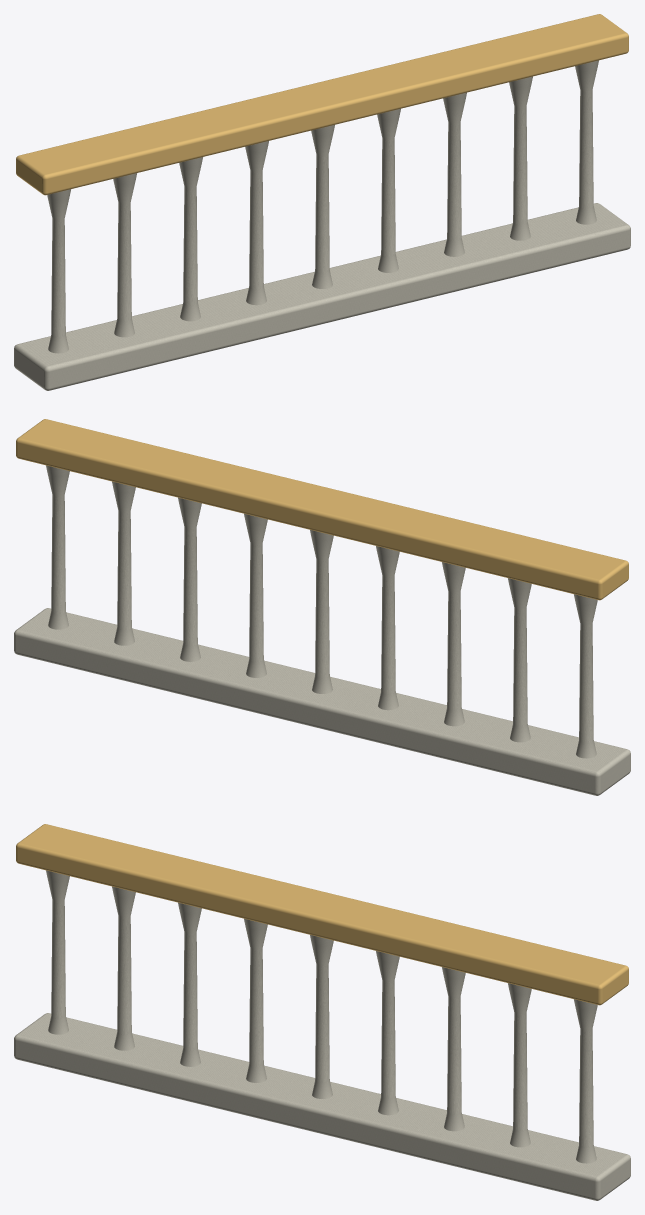
The model's file is arcane-academy-and-spell-trials-balustrade-straight-19be2df7__28283.glb.
The picture shows the model from 3 angles, top to bottom: view 1: azimuth 30°, elevation 25°; view 2: azimuth 150°, elevation 25°; view 3: azimuth 330°, elevation 25°; orthographic projection.
Visible parts, largest first — view 1: balustrade-straight; view 2: balustrade-straight; view 3: balustrade-straight.
Part boxes in pixels (x1=…): balustrade-straight: x1=14, y1=14, x2=630, y2=390; balustrade-straight: x1=14, y1=419, x2=630, y2=795; balustrade-straight: x1=14, y1=824, x2=630, y2=1200.
Size of the model in its own units: 3 by 1.05 by 0.2999.
2 materials, 1 textured.
